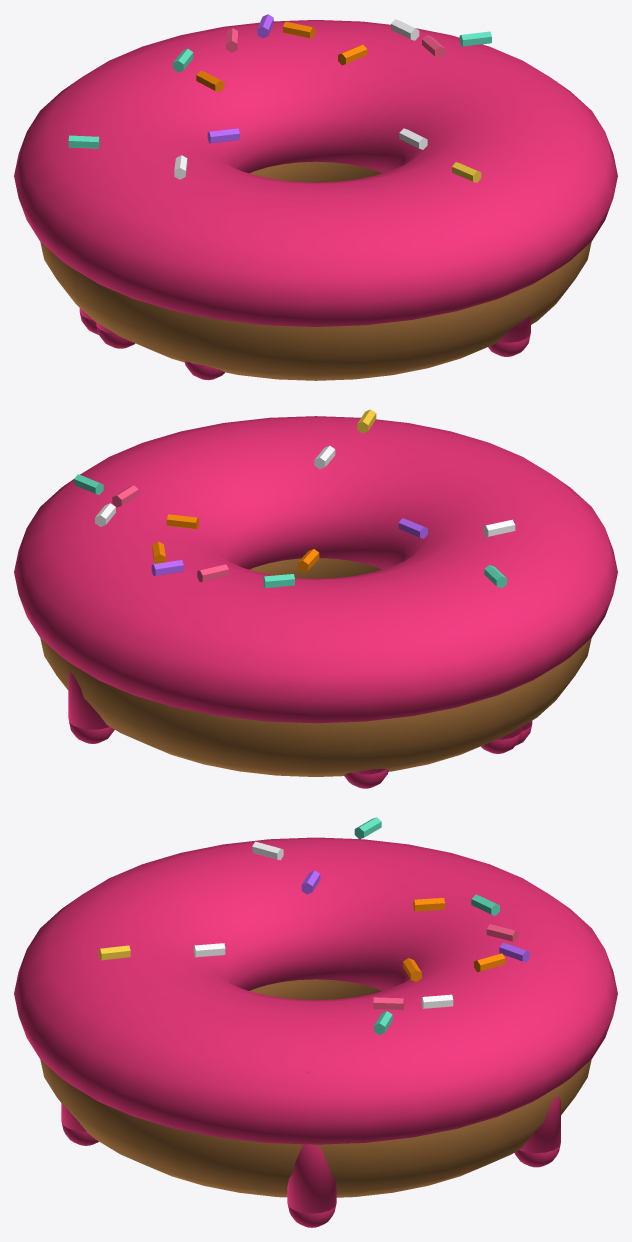
Rendered from donut.glb.
3 renders of one model, top to bottom at view 1: azimuth 30°, elevation 25°; view 2: azimuth 150°, elevation 25°; view 3: azimuth 270°, elevation 25°, orthographic.
Parts seen in each view (by area): view 1: Frosting, Donut, Drip2; view 2: Frosting, Donut, Drip0, Drip9, Drip1; view 3: Frosting, Donut, Drip6, Drip0, Drip2.
Part boxes in pixels (x1,y1,x2,y2): Frosting: (14, 20, 617, 326); Donut: (40, 161, 591, 380); Drip2: (488, 316, 530, 356); Frosting: (14, 416, 617, 723); Donut: (40, 558, 591, 776); Drip0: (68, 670, 114, 743); Drip9: (344, 768, 388, 788); Drip1: (481, 727, 522, 753); Frosting: (14, 837, 617, 1144); Donut: (40, 979, 591, 1197); Drip6: (287, 1070, 336, 1227); Drip0: (514, 1096, 560, 1167); Drip2: (61, 1103, 98, 1145).
Size of the model in its own units: 3.2 by 1.14 by 3.2.
